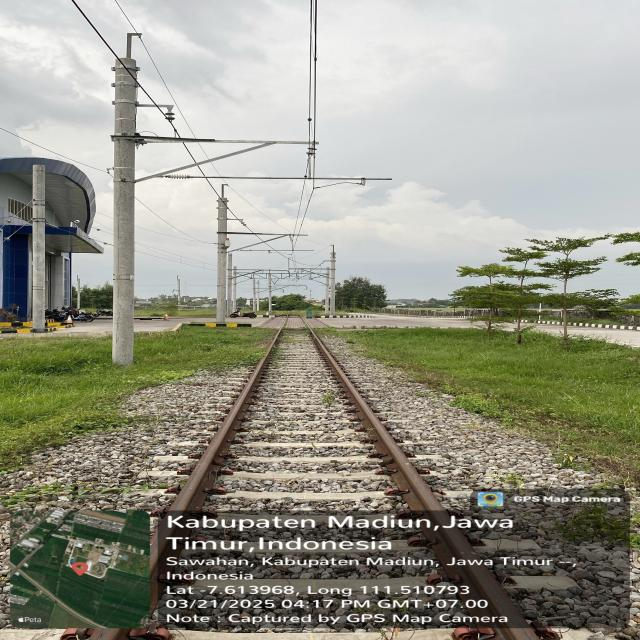rail-detection: (311, 330, 536, 640), (151, 350, 270, 599)
